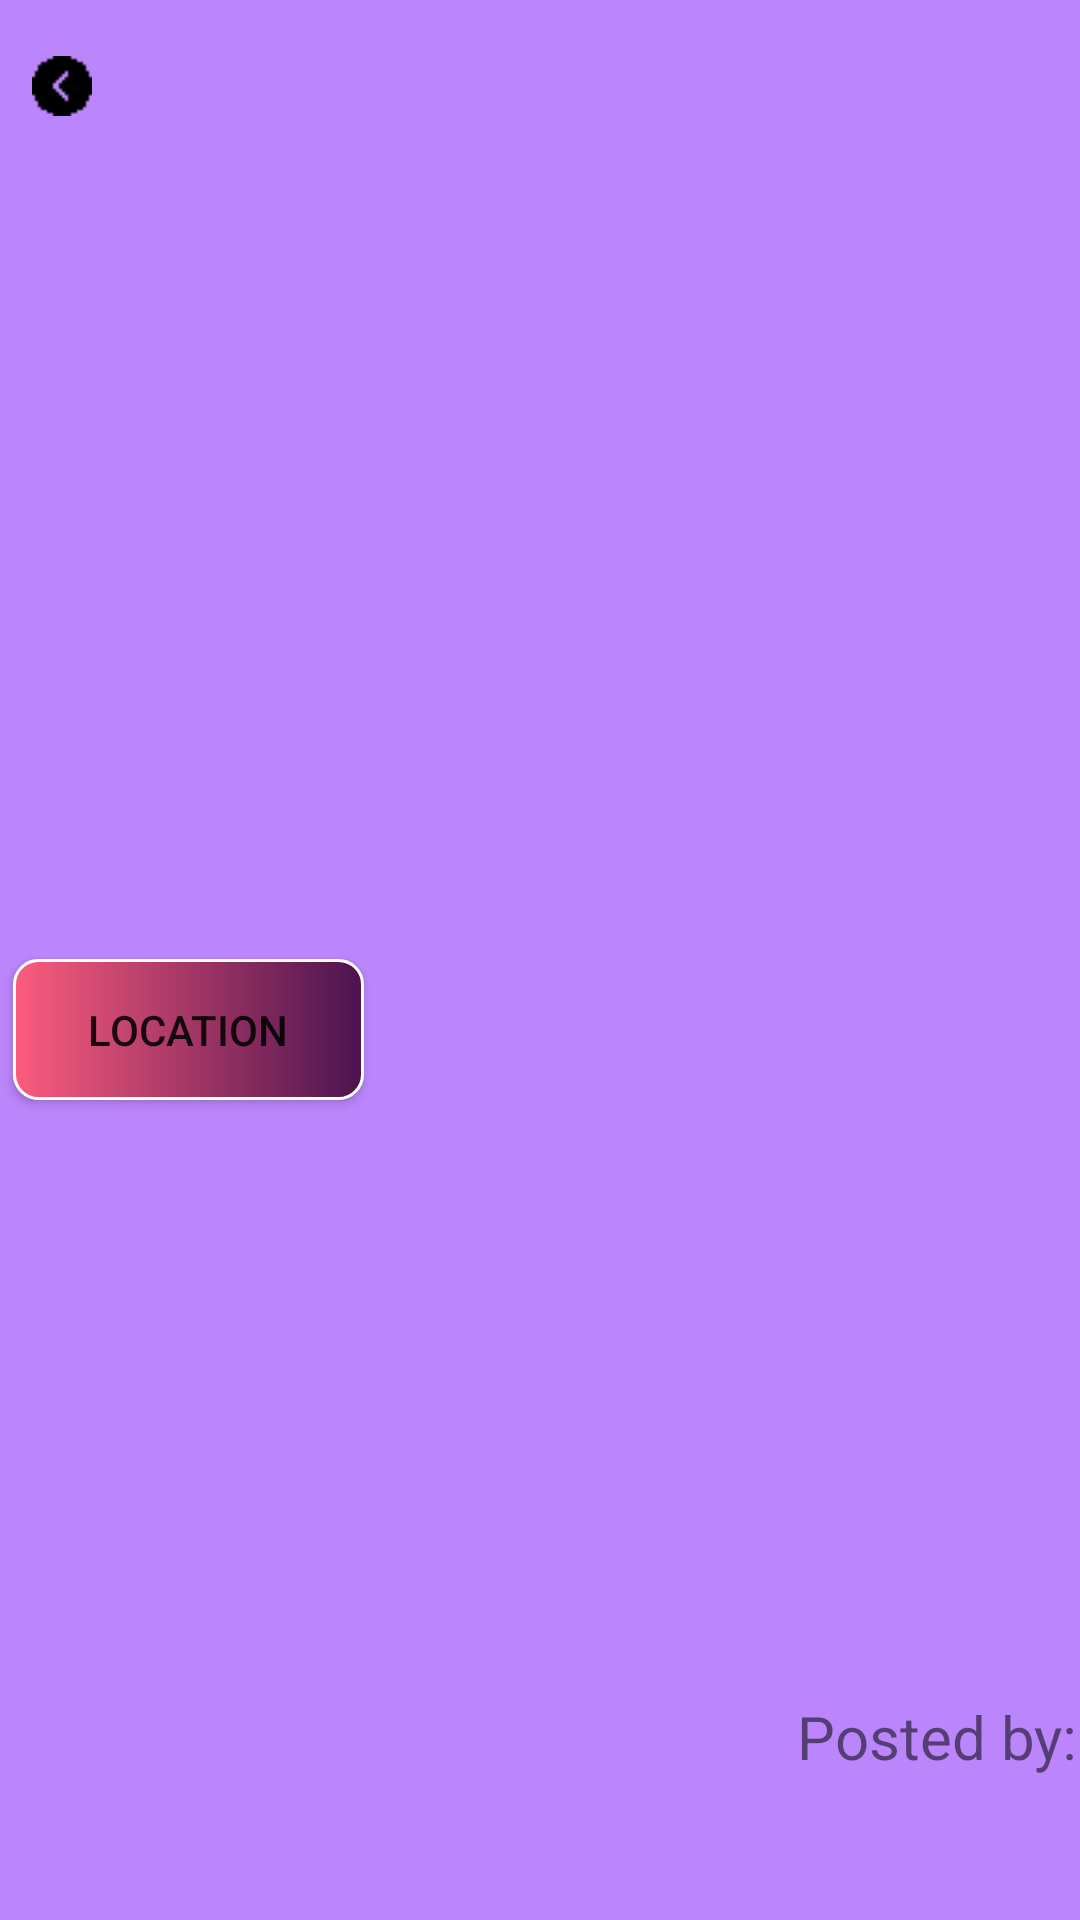

Named icons in this screenshot (1080px x 1920px) and their bounding boxes, (x1, y1, x2, y2):
back: (32, 56, 92, 116)
